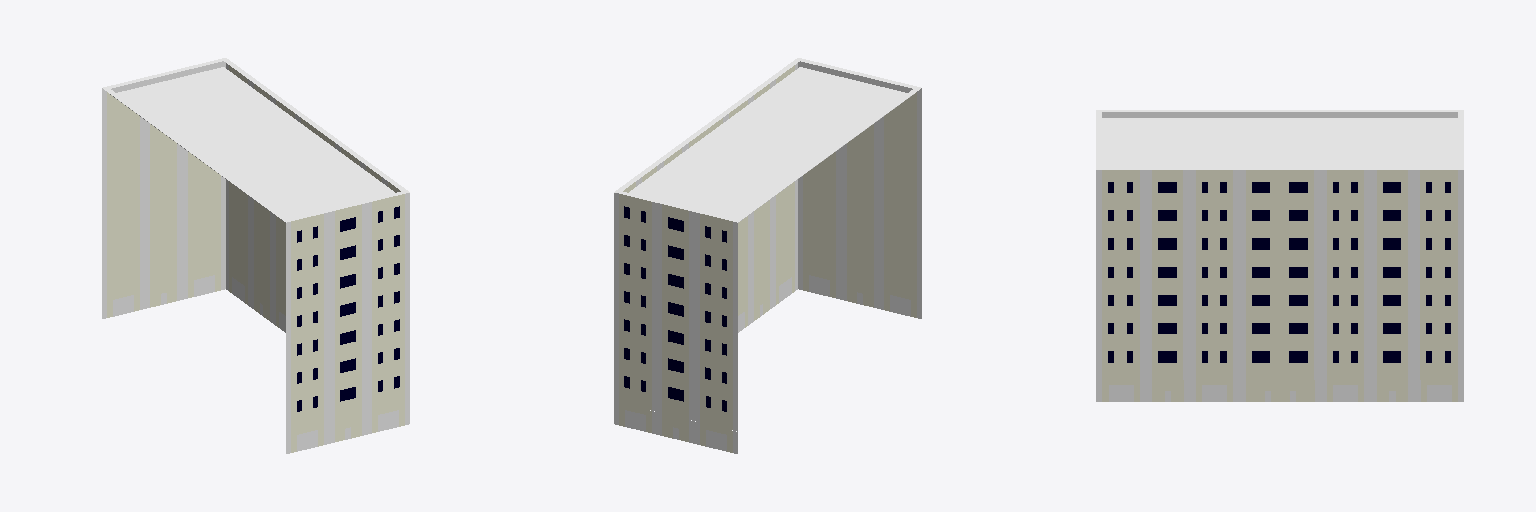
File: LongBuilding2.obj
3 renders of one model, left to right at view 1: azimuth 30°, elevation 25°; view 2: azimuth 150°, elevation 25°; view 3: azimuth 270°, elevation 25°, orthographic.
Visible parts, largest first — view 1: LongBuilding2; view 2: LongBuilding2; view 3: LongBuilding2.
Boxes of the visible parts, x1=… form: LongBuilding2: x1=102, y1=58, x2=409, y2=453; LongBuilding2: x1=614, y1=58, x2=921, y2=453; LongBuilding2: x1=1096, y1=110, x2=1463, y2=401.
Size of the model in its own units: 23.01 by 41 by 59.11.